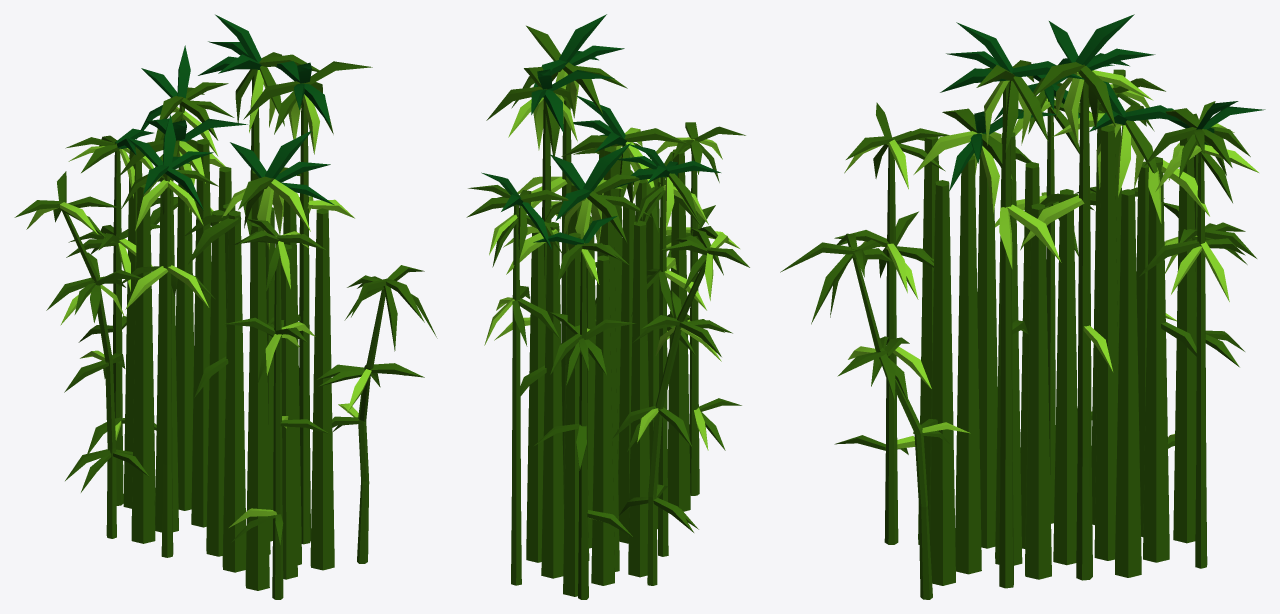
File: Bamboo.FBX
3 views of the same model, side by side, from view 1: azimuth 30°, elevation 25°; view 2: azimuth 150°, elevation 25°; view 3: azimuth 270°, elevation 25° (orthographic). The views are drawn at different scales.
Visible parts, largest first — view 1: Bamboo; view 2: Bamboo; view 3: Bamboo.
Part boxes in pixels (x1,y1,x2,y2): Bamboo: (14, 14, 437, 599); Bamboo: (466, 14, 749, 599); Bamboo: (780, 14, 1265, 599).
Size of the model in its own units: 23.51 by 37.44 by 29.85.
